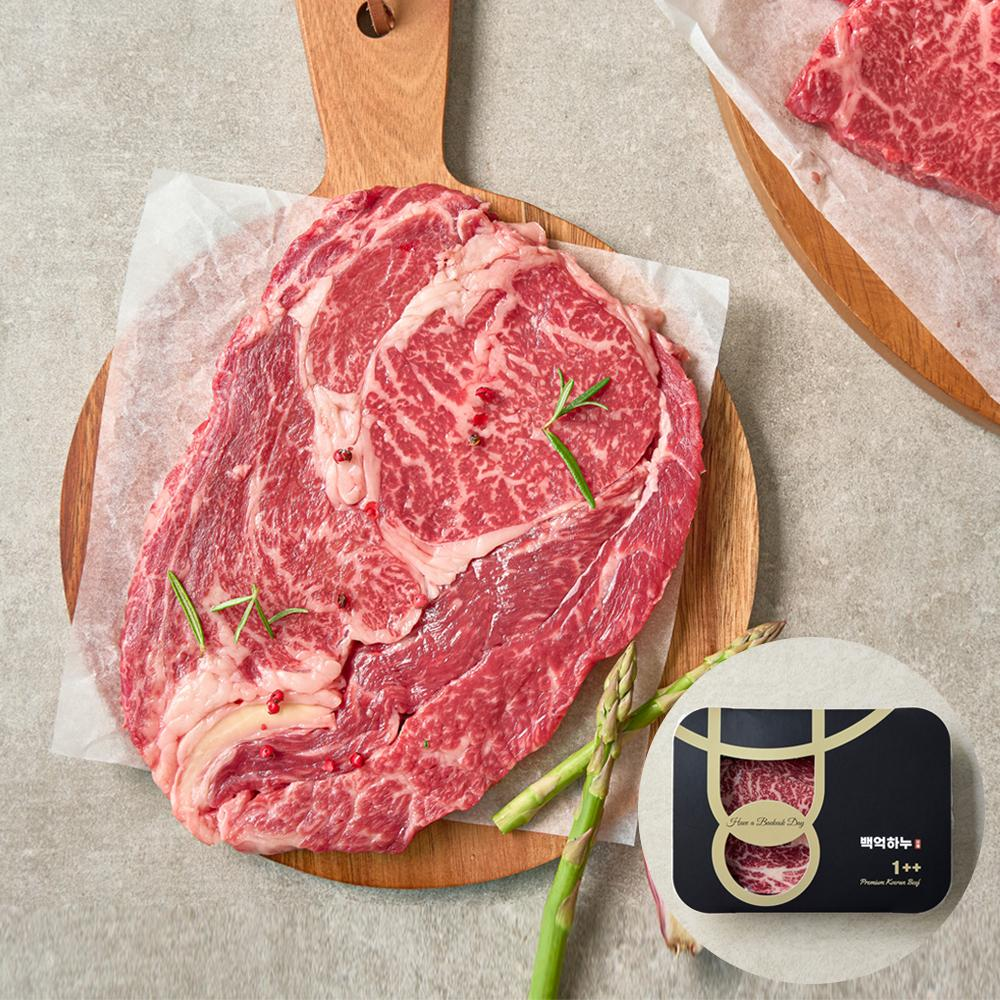beef: (406, 416, 764, 1000)
